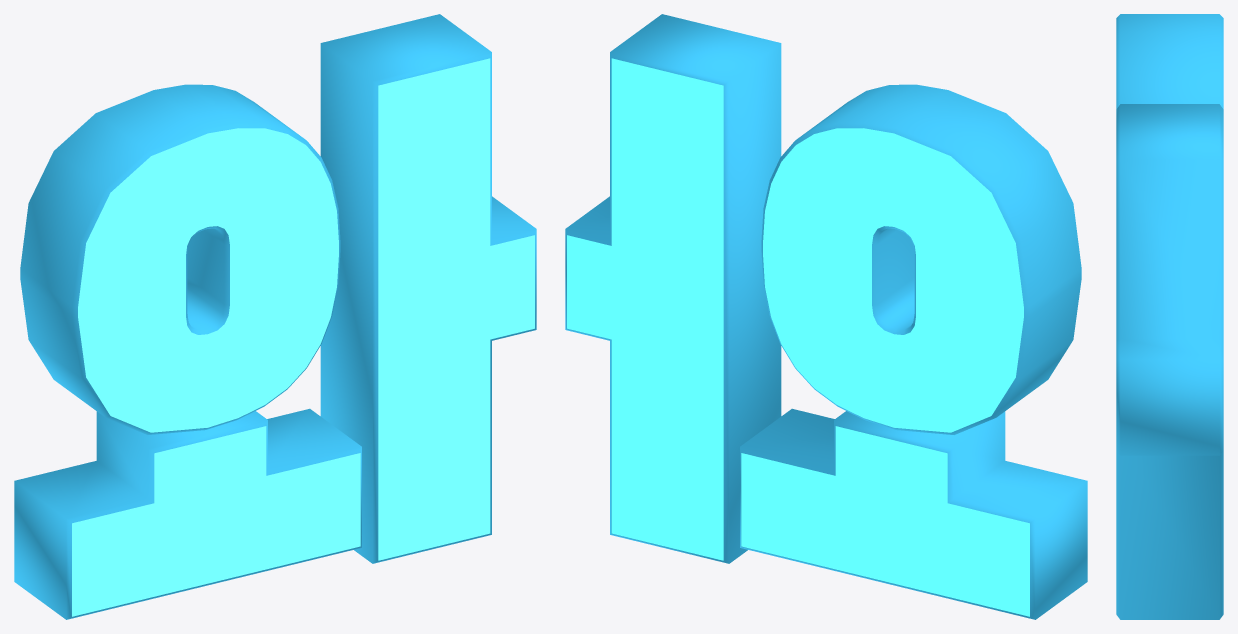
The picture shows the model from 3 angles, left to right: view 1: azimuth 30°, elevation 25°; view 2: azimuth 150°, elevation 25°; view 3: azimuth 270°, elevation 25°; orthographic projection. The views are drawn at different scales.
Parts seen in each view (by area): view 1: glyph; view 2: glyph; view 3: glyph.
Part boxes in pixels (<box>): glyph: <box>14,14,536,619</box>; glyph: <box>565,14,1087,619</box>; glyph: <box>1116,14,1223,619</box>.
Size of the model in its own units: 0.0783 by 0.0768 by 0.0162.
